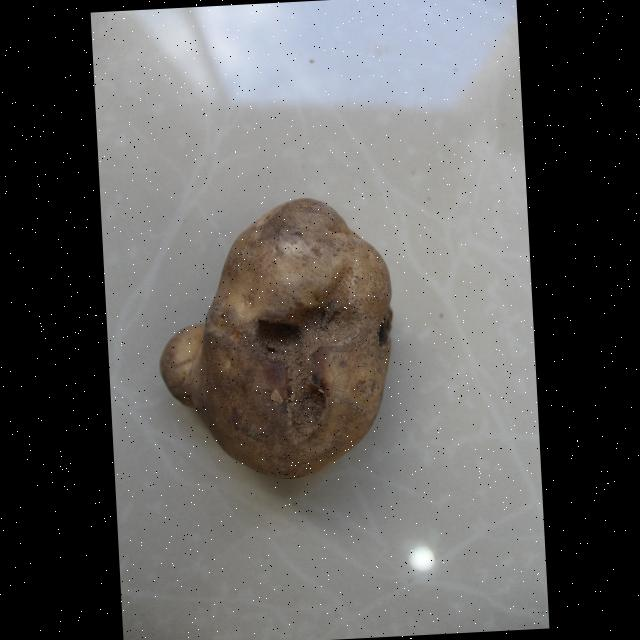Diseased-fungal potato: (148, 195, 404, 486)
